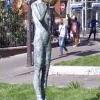Statue: (20, 1, 59, 100)
